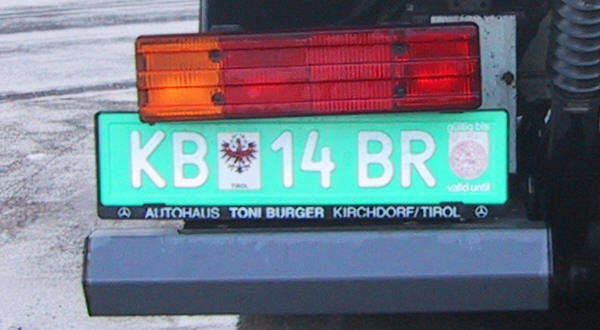license_plate: (94, 111, 509, 208)
